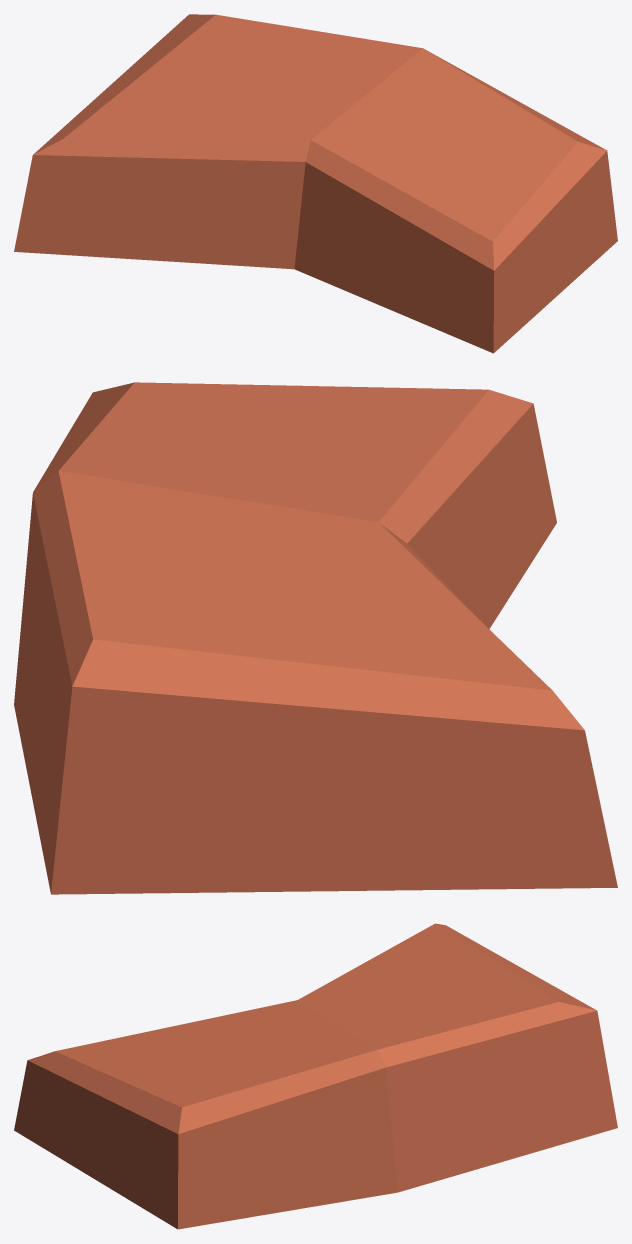
Rendered from Rock_Mesa_Medium_15.fbx.
The picture shows the model from 3 angles, top to bottom: view 1: azimuth 30°, elevation 25°; view 2: azimuth 150°, elevation 25°; view 3: azimuth 270°, elevation 25°; orthographic projection. The views are drawn at different scales.
Parts seen in each view (by area): view 1: Rock; view 2: Rock; view 3: Rock.
Boxes of the visible parts, x1,y1,x2,y2 form: Rock: [14, 14, 617, 353]; Rock: [14, 382, 617, 894]; Rock: [14, 923, 617, 1229].
Size of the model in its own units: 74.71 by 21.41 by 86.03.
